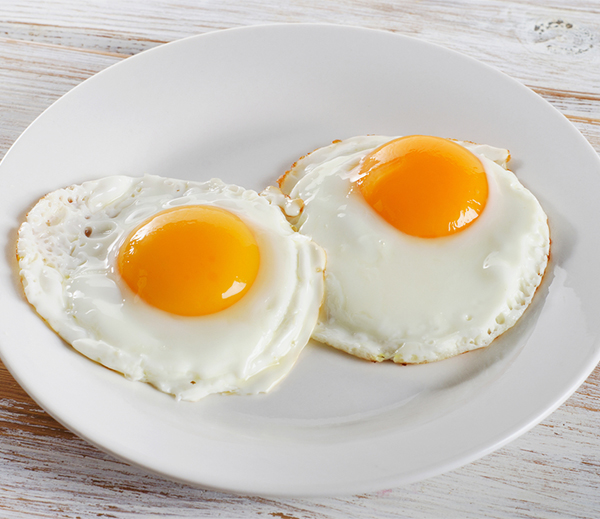fried egg: (63, 174, 280, 368), (328, 146, 516, 355)
